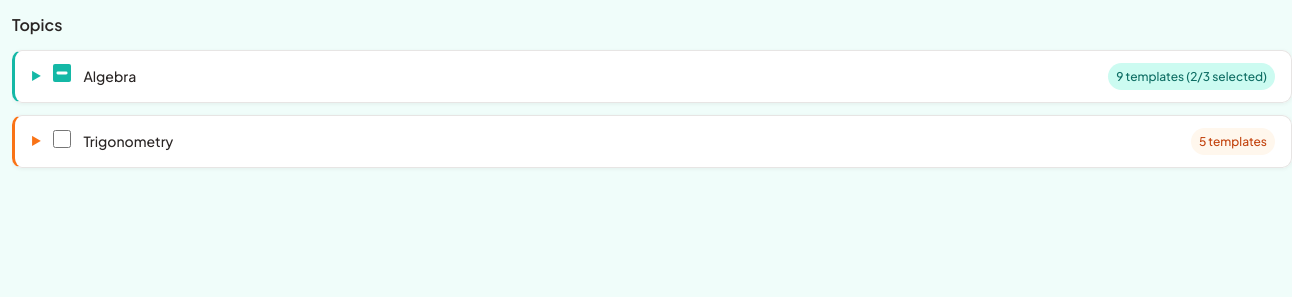
it: TopicSelector › subtopic selection › subtopic checkboxes reflect selected state from props
Click the button "▶ Algebra 9 templates (2/3 selected)" at (110, 76), box [31,63,1275,90]
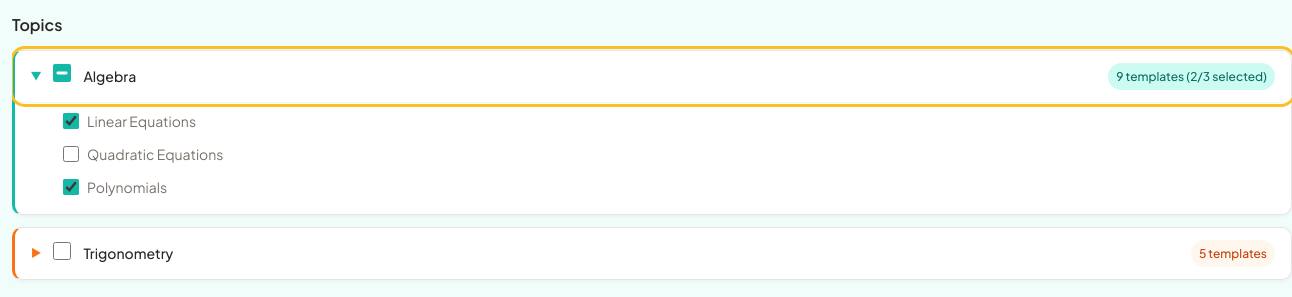
Check: the checkbox labelled "Linear Equations" is checked, box [63,113,79,129]
Check: the checkbox labelled "Quadratic Equations" is not checked, box [63,146,79,162]
Check: the checkbox labelled "Polynomials" is checked, box [63,179,79,195]
